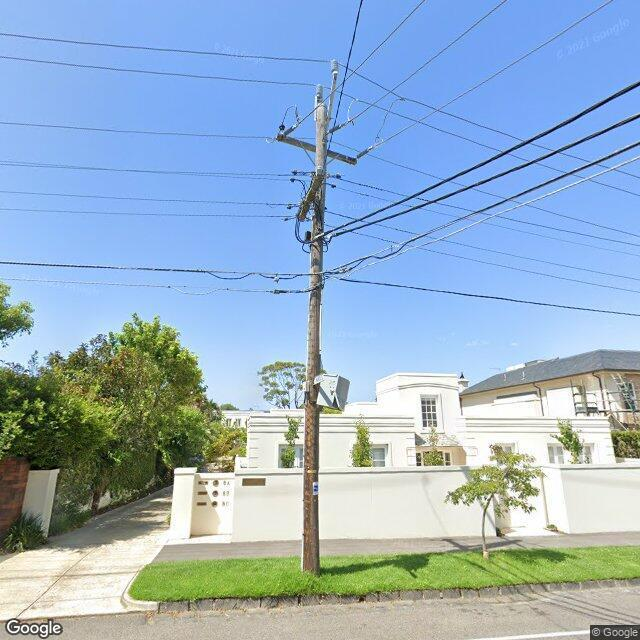HV-transmission: (276, 58, 374, 165)
crossarm: (283, 170, 342, 224), (277, 134, 357, 166), (327, 74, 337, 120)
timber-pole: (300, 105, 329, 576)
